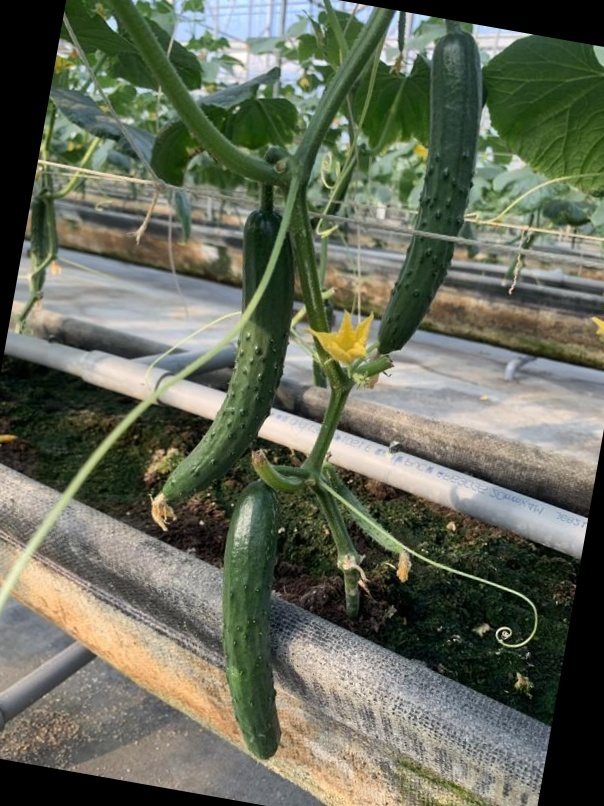mature: (148, 210, 292, 504), (378, 30, 488, 360), (219, 484, 284, 761)
